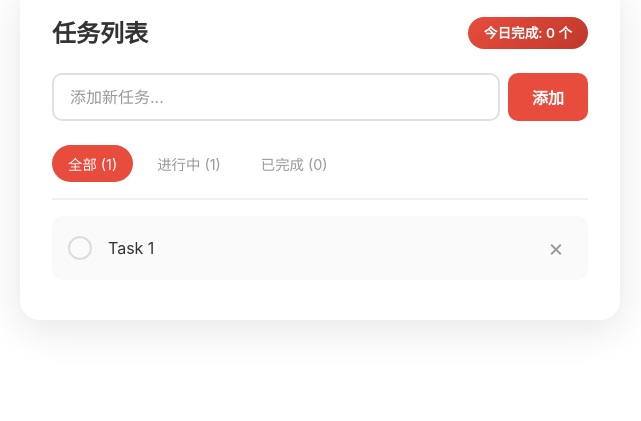
Test: TaskList › toggle task completion › increments today completed count when task completed
The width and height of the screenshot is (641, 421).
Click the checkbox at (80, 248), box [68,236,92,260]
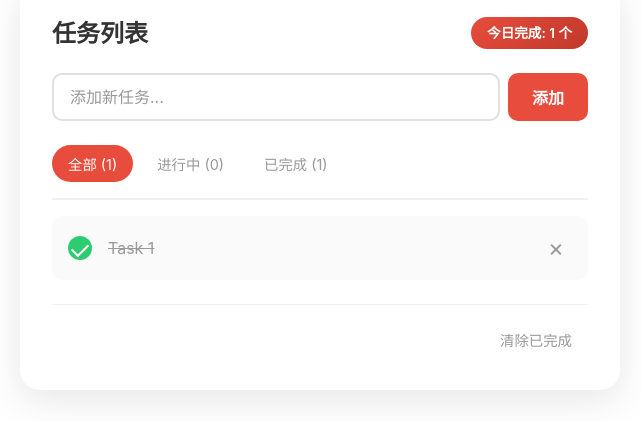
Expected: the text "今日完成: 1 个" is shown, [471,16,588,48]
